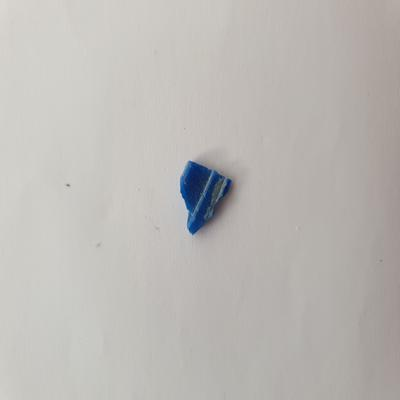plastic: (175, 155, 235, 237)
